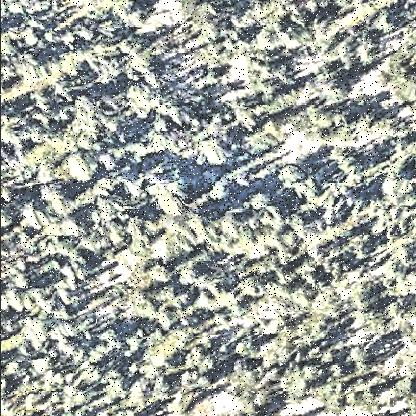tree-top: (278, 362, 322, 407), (280, 160, 323, 206), (320, 104, 364, 147), (198, 135, 236, 175), (62, 150, 98, 188), (155, 183, 189, 219), (100, 369, 132, 404), (335, 151, 368, 183), (354, 39, 383, 70), (173, 262, 201, 290), (322, 77, 352, 103), (375, 10, 401, 39), (233, 336, 261, 362), (384, 297, 409, 323), (98, 327, 125, 351), (150, 264, 176, 288), (250, 189, 276, 213), (210, 177, 234, 202), (12, 271, 34, 297), (4, 358, 26, 381), (131, 56, 155, 75), (1, 207, 17, 233), (55, 306, 76, 324), (399, 377, 416, 399)
